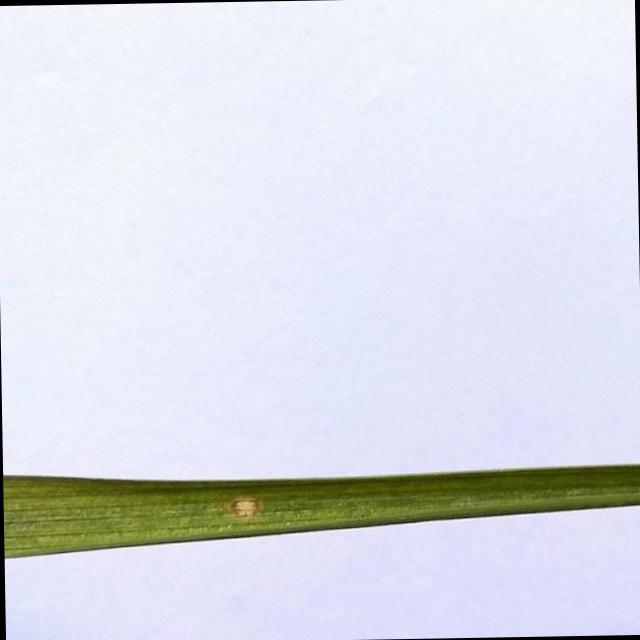Rice_Blast: (223, 493, 265, 522)
